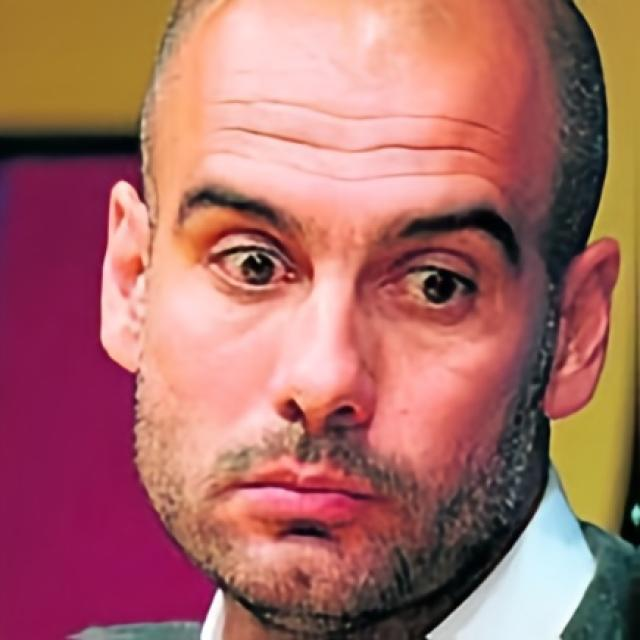surprise: (132, 0, 610, 614)
